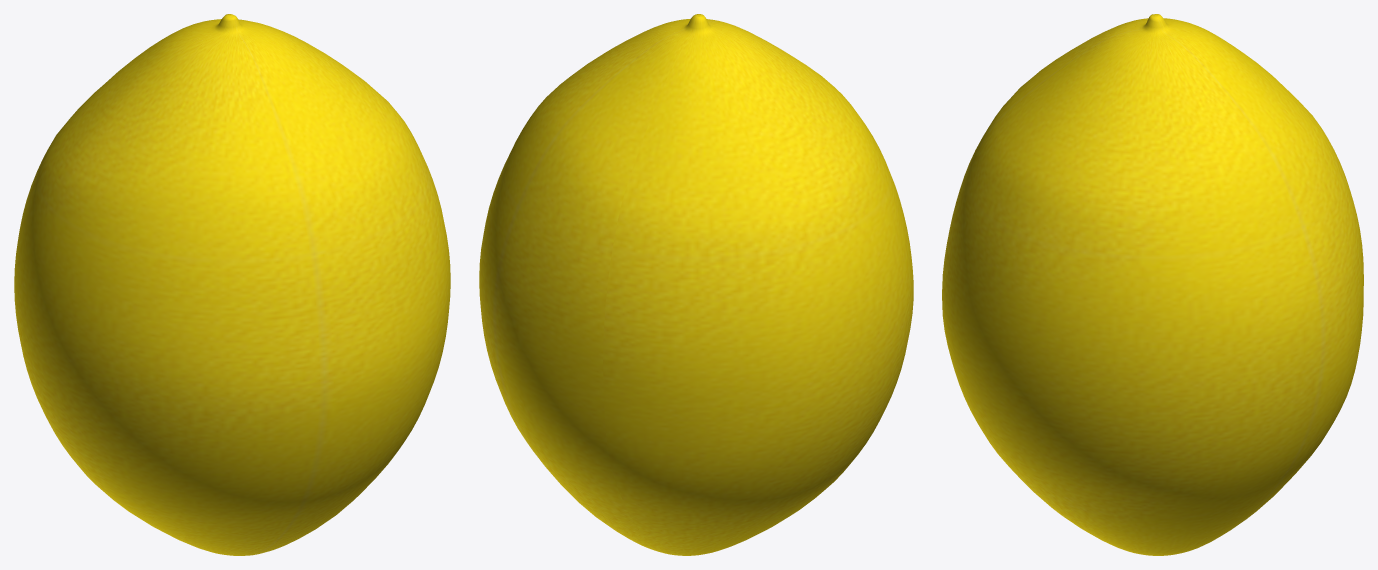
Rendered from lemon.obj.
3 views of the same model, side by side, from view 1: azimuth 30°, elevation 25°; view 2: azimuth 150°, elevation 25°; view 3: azimuth 270°, elevation 25° (orthographic).
Visible parts, largest first — view 1: pSphere6.004_Untitled.012; view 2: pSphere6.004_Untitled.012; view 3: pSphere6.004_Untitled.012.
Boxes of the visible parts, left/top/right/bottom form: pSphere6.004_Untitled.012: left=14, top=14, right=450, bottom=555; pSphere6.004_Untitled.012: left=479, top=14, right=913, bottom=555; pSphere6.004_Untitled.012: left=942, top=14, right=1363, bottom=555.
Bounding box in the file's own units: 0.1492 × 0.2016 × 0.1462.
Materials: 1 (1 with a texture image).
